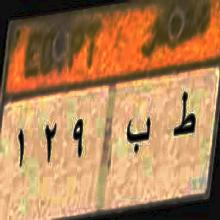1: (14, 124, 30, 182)
2: (43, 119, 60, 173)
9: (72, 115, 85, 170)
Taa: (170, 82, 198, 148)
baa: (124, 108, 153, 164)
